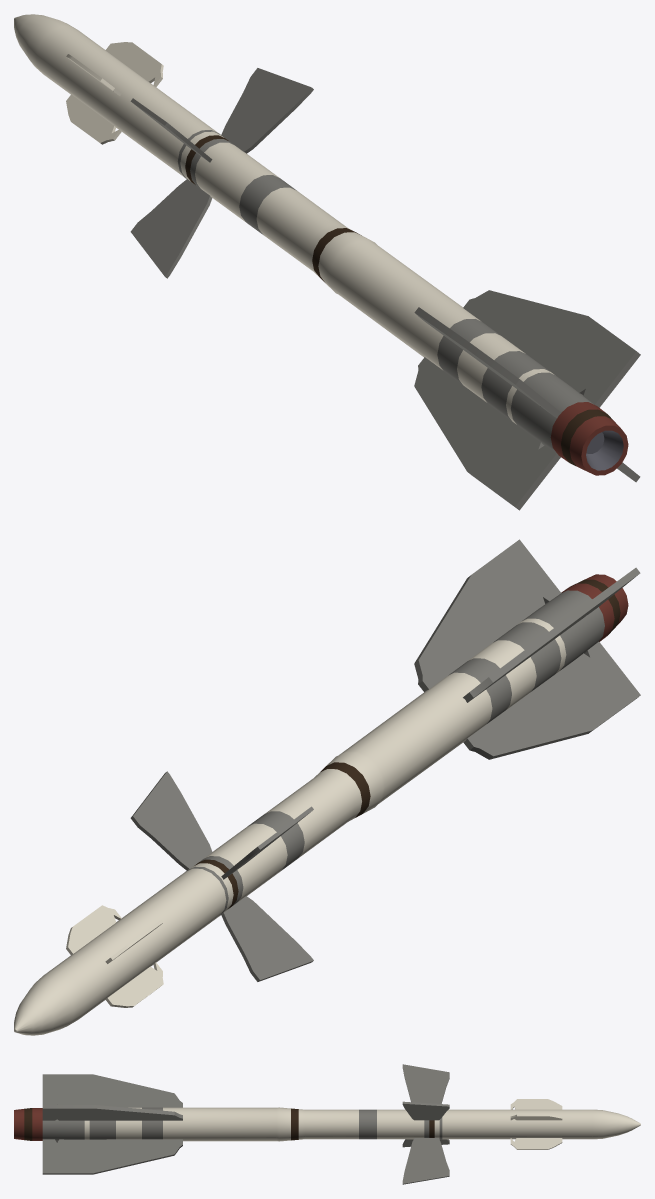
The picture shows the model from 3 angles, top to bottom: view 1: azimuth 30°, elevation 25°; view 2: azimuth 150°, elevation 25°; view 3: azimuth 270°, elevation 25°; orthographic projection. The views are drawn at different scales.
Parts seen in each view (by area): view 1: r27er; view 2: r27er; view 3: r27er.
Part boxes in pixels (bbox=[...]): r27er: bbox=[14, 14, 640, 510]; r27er: bbox=[14, 539, 640, 1035]; r27er: bbox=[14, 1064, 640, 1184].
Bounding box in the file's own units: 0.7094 × 0.7094 × 4.85.
